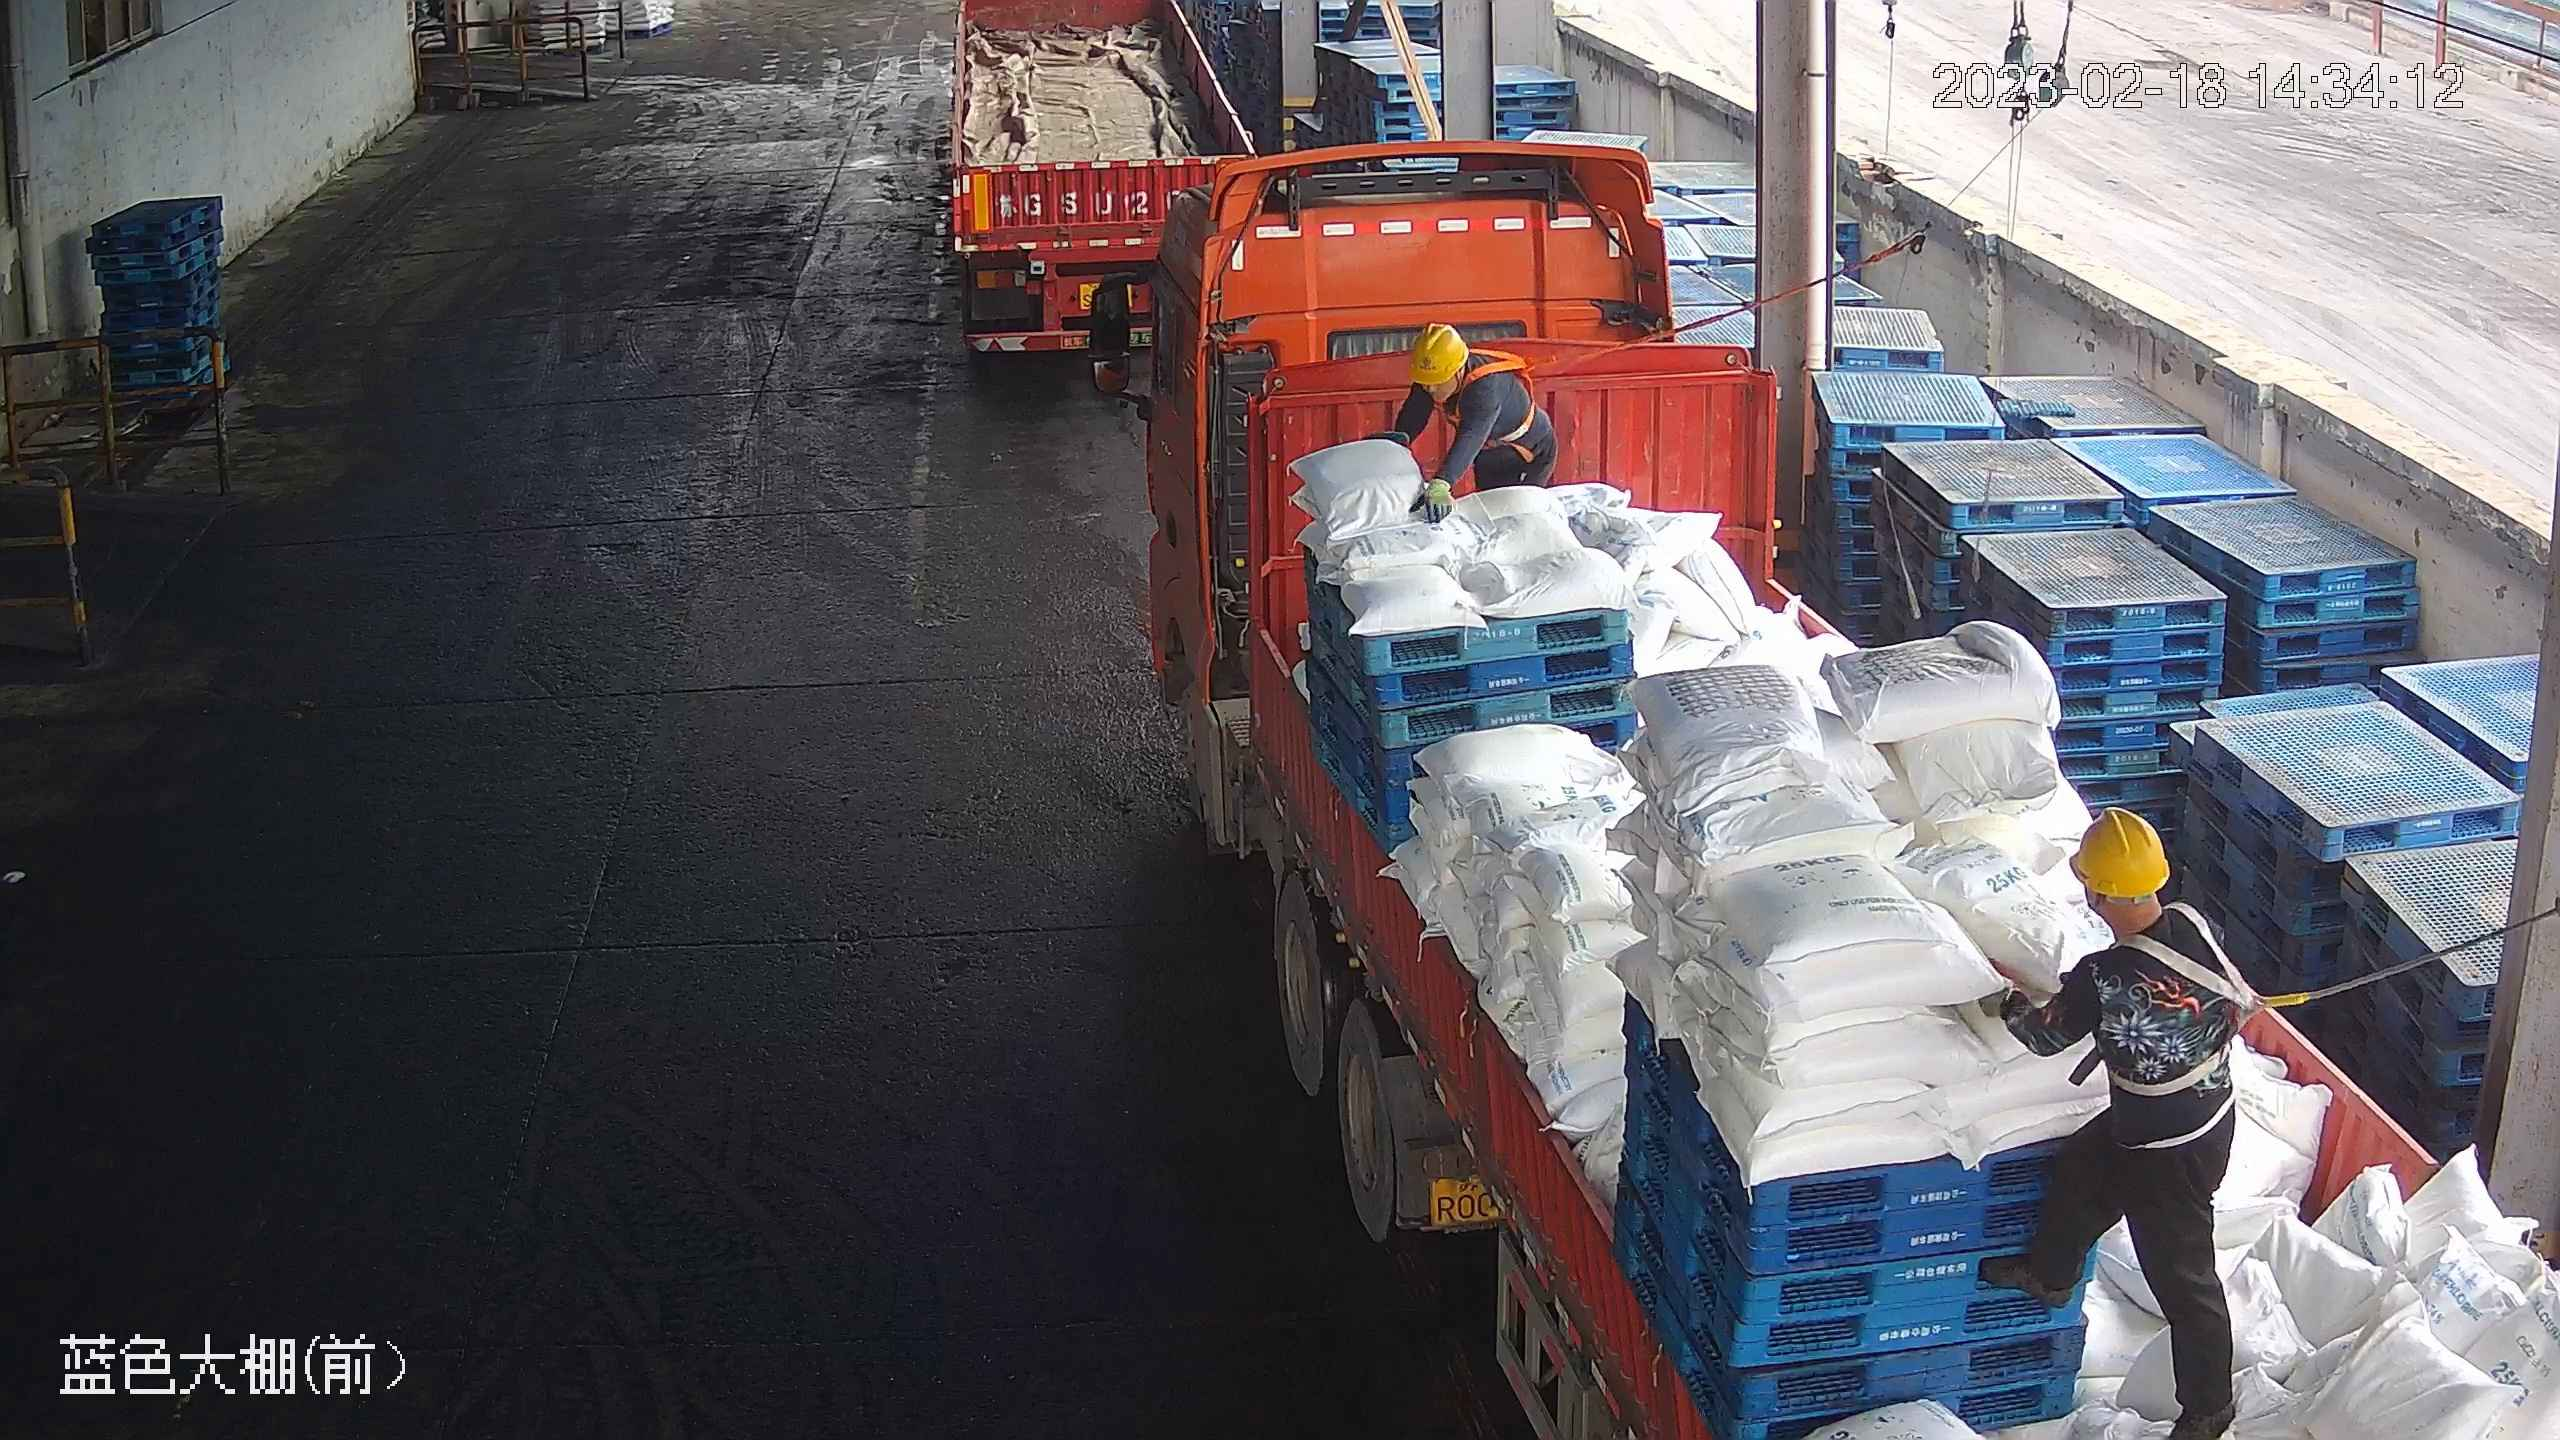belt: (2113, 903, 2300, 1101), (1466, 339, 1567, 456)
head: (2038, 800, 2226, 1012), (1400, 322, 1515, 423)
helmet: (2066, 808, 2171, 900), (1412, 322, 1476, 388)
people: (1976, 801, 2252, 1440), (1361, 322, 1561, 522)
truck: (1079, 127, 2560, 1440), (940, 1, 1269, 371)
